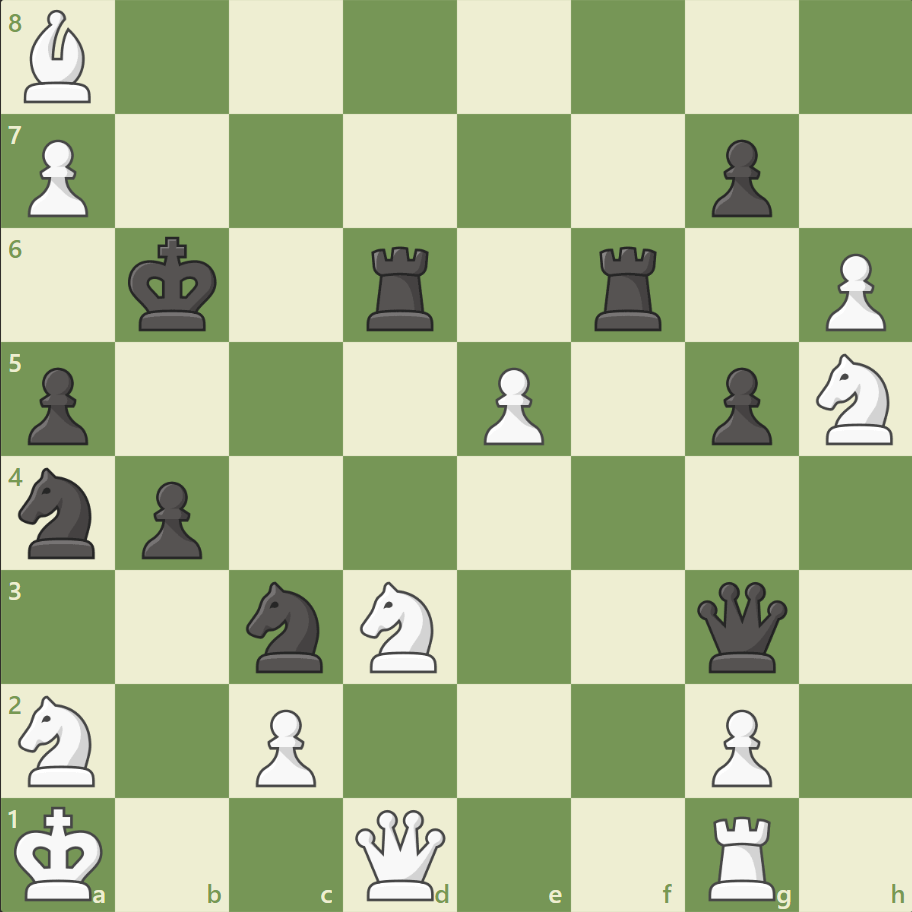B: (17, 6, 101, 109)
K: (11, 798, 111, 906)
N: (351, 575, 449, 677), (11, 688, 108, 791), (806, 348, 903, 450)
P: (20, 132, 95, 223), (474, 359, 549, 450), (247, 700, 322, 791), (701, 700, 776, 791), (815, 246, 889, 337)
Q: (351, 804, 450, 903)
R: (700, 806, 783, 904)
k: (124, 231, 224, 339)
n: (11, 461, 108, 564), (238, 575, 335, 677)
p: (701, 132, 776, 223), (20, 359, 95, 450), (701, 359, 776, 450), (133, 473, 208, 564)
q: (691, 576, 790, 676)
r: (587, 239, 670, 336), (360, 239, 442, 336)
